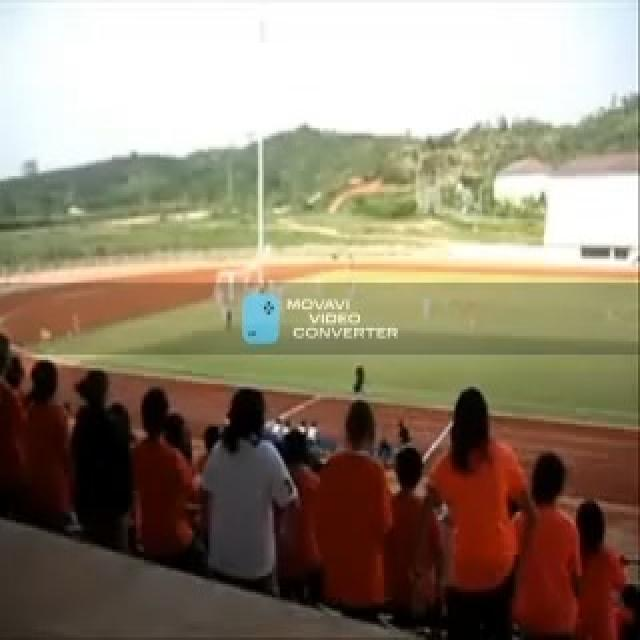non-voilence: (0, 320, 638, 637), (282, 291, 400, 344)
